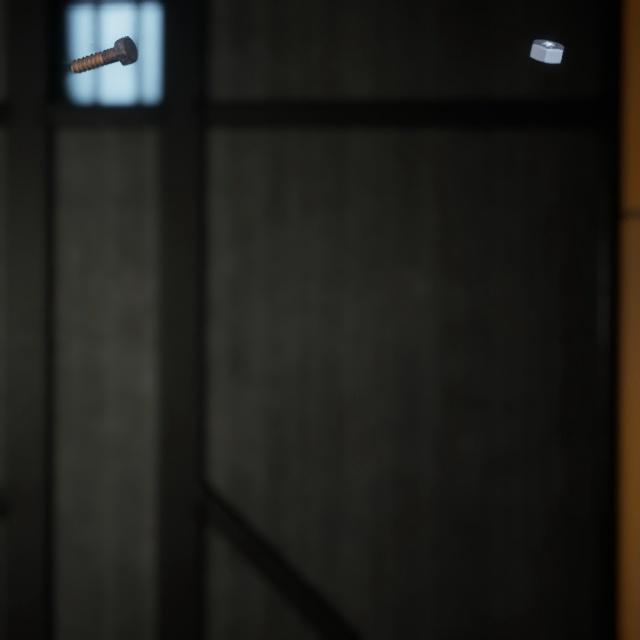bolt: (65, 22, 142, 68)
nut: (525, 25, 568, 58)
